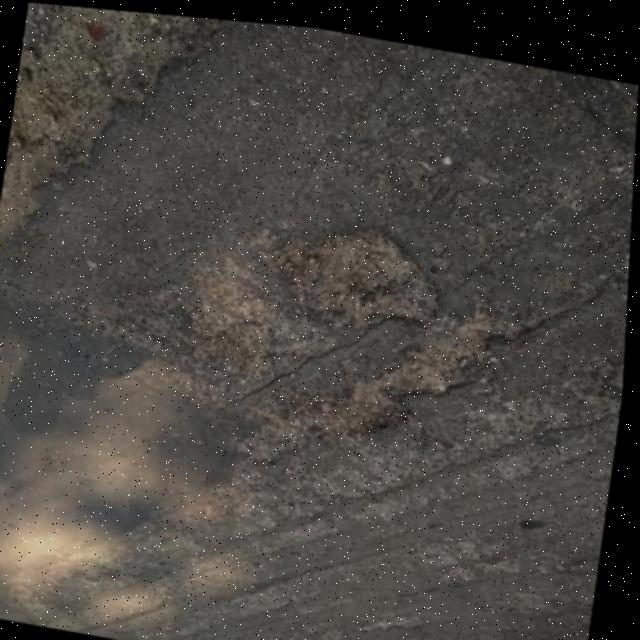Pothole: (0, 0, 263, 317), (327, 271, 539, 459), (287, 206, 451, 342), (322, 637, 401, 640)
